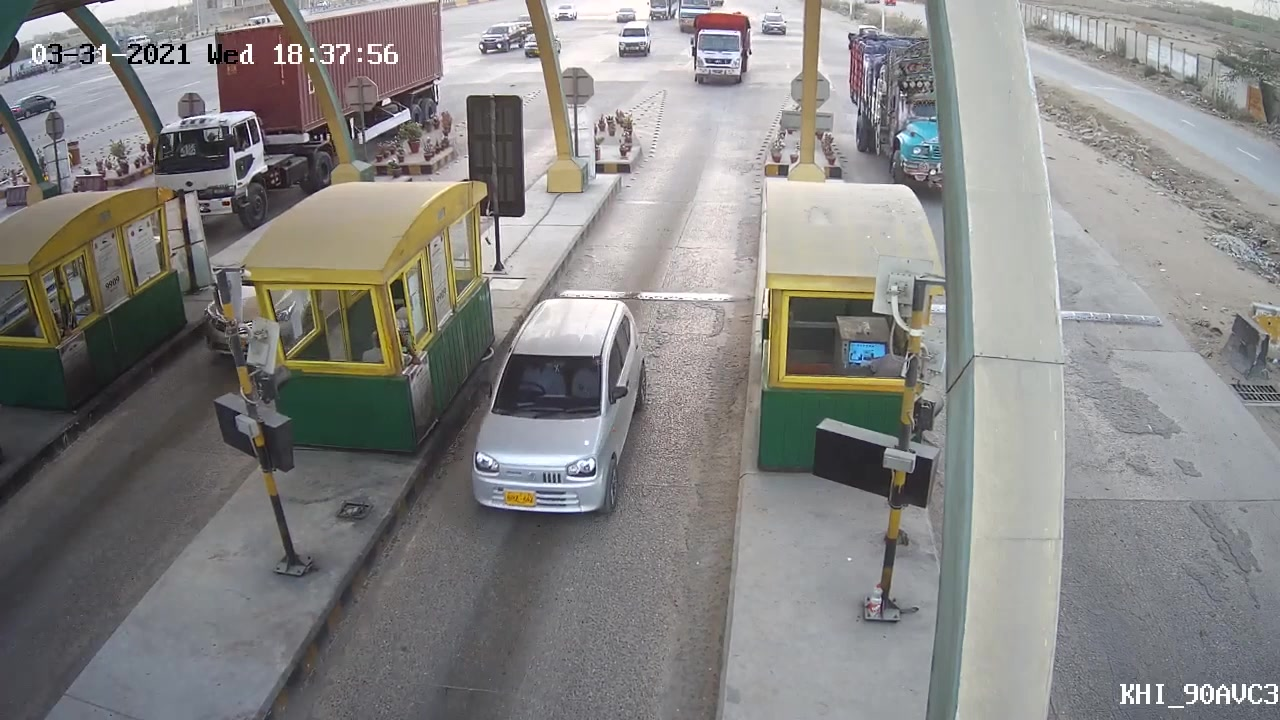F1: (462, 298, 659, 521)
